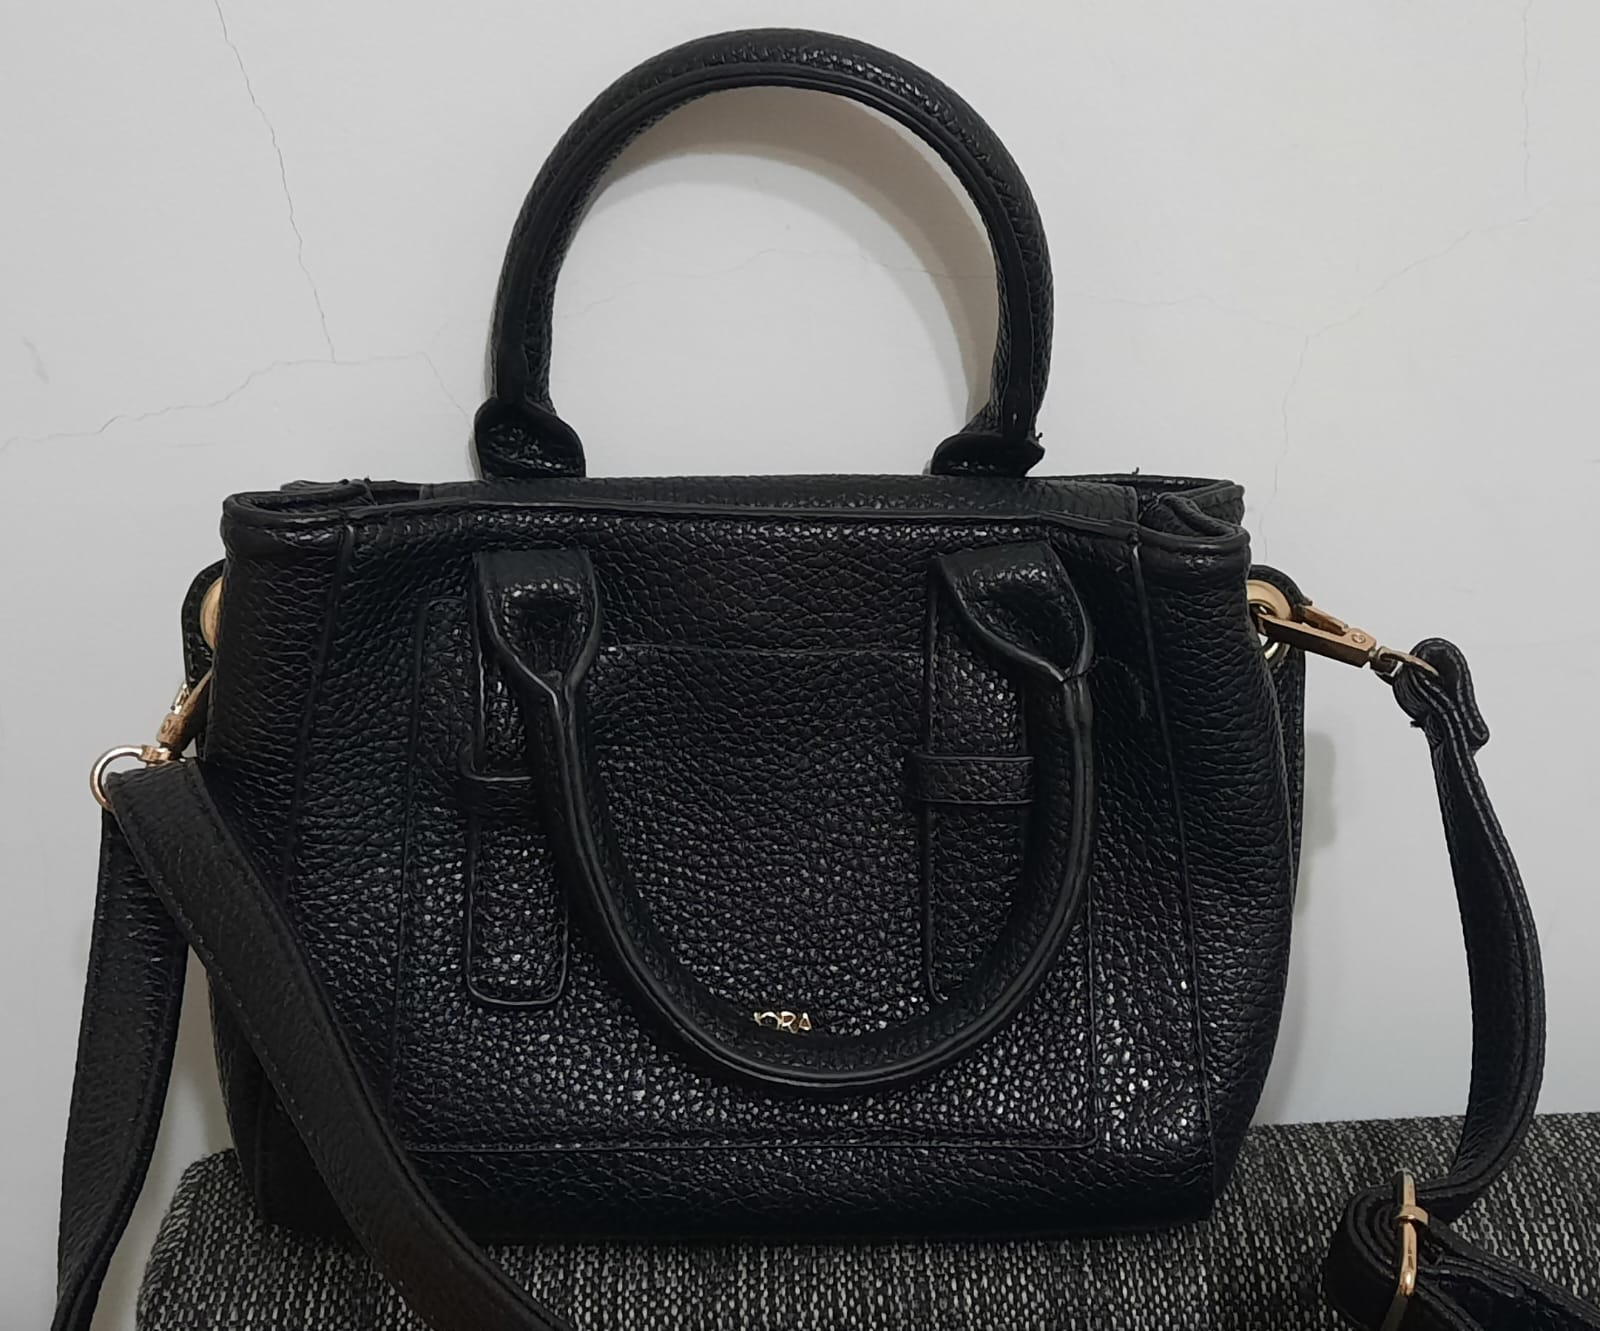cartera: (86, 9, 1600, 1312)
cuero: (435, 635, 1068, 1100)
